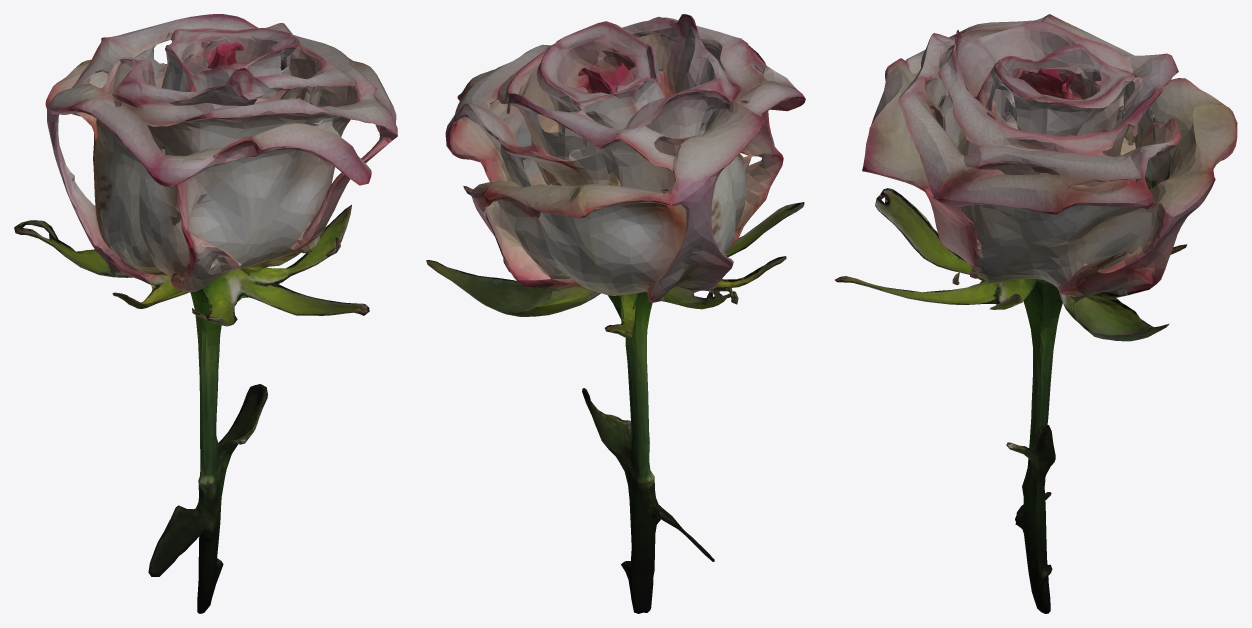
3 renders of one model, left to right at view 1: azimuth 30°, elevation 25°; view 2: azimuth 150°, elevation 25°; view 3: azimuth 270°, elevation 25°, orthographic.
Parts seen in each view (by area): view 1: world; view 2: world; view 3: world.
Part boxes in pixels (x1,y1,x2,y2): world: (14, 14, 397, 613); world: (426, 14, 805, 613); world: (835, 14, 1237, 613).
Size of the model in its own units: 0.5668 by 0.973 by 0.6142.
Materials: 1 (1 with a texture image).
